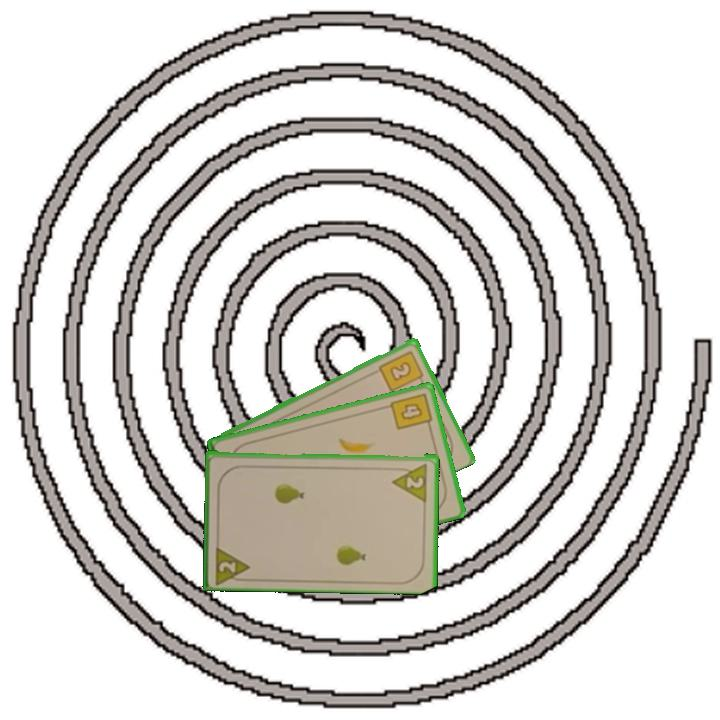2b: (375, 347, 427, 394)
2p: (389, 459, 431, 503), (215, 558, 239, 575)
4b: (387, 389, 435, 433)
